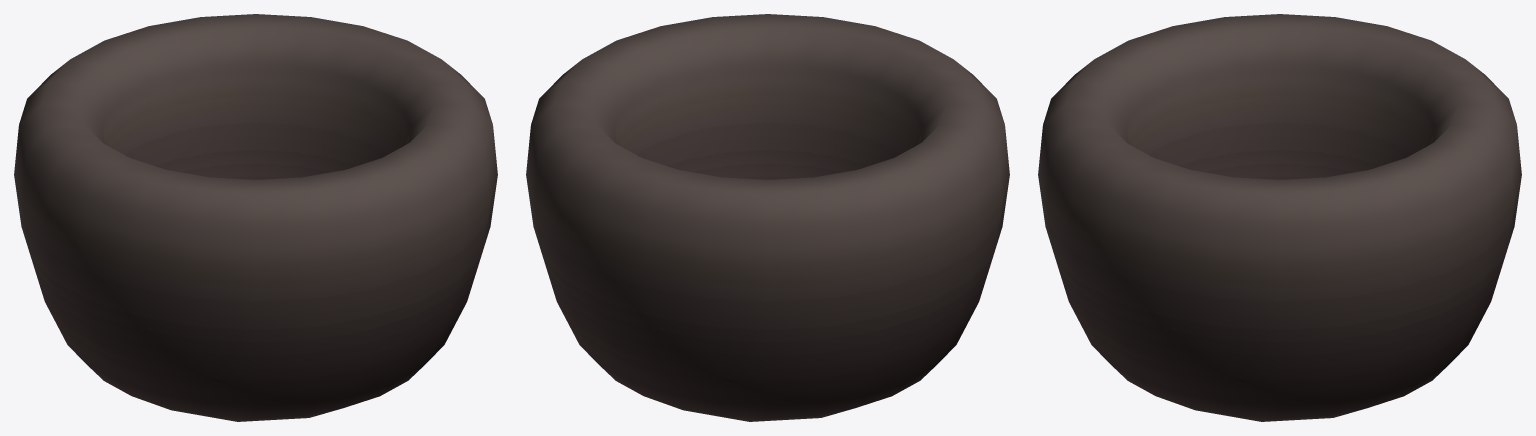
The model's file is Bowl_05.glb.
3 renders of one model, left to right at view 1: azimuth 30°, elevation 25°; view 2: azimuth 150°, elevation 25°; view 3: azimuth 270°, elevation 25°, orthographic.
Visible parts, largest first — view 1: Bowl_05; view 2: Bowl_05; view 3: Bowl_05.
Boxes of the visible parts, box(x1,y1,x2,y2) form: Bowl_05: box(14, 14, 497, 421); Bowl_05: box(526, 14, 1009, 421); Bowl_05: box(1038, 14, 1521, 421).
Bounding box in the file's own units: 0.1486 × 0.0879 × 0.1486.
Materials: 1 (1 with a texture image).
